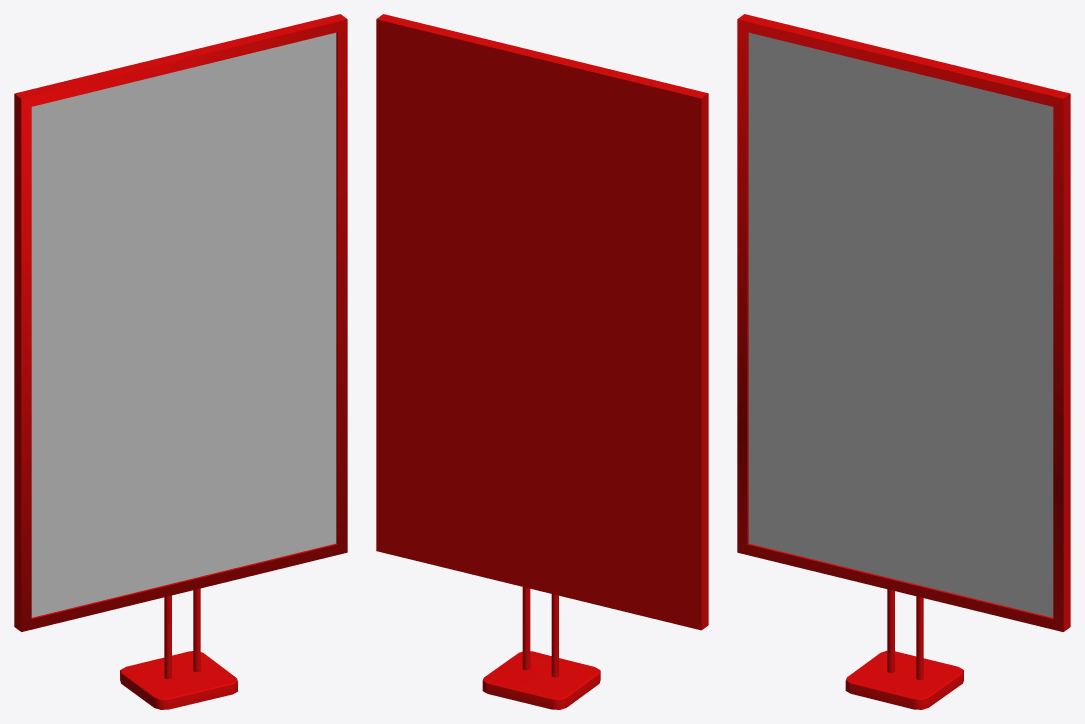
The model's file is Mirroe.fbx.
The picture shows the model from 3 angles, left to right: view 1: azimuth 30°, elevation 25°; view 2: azimuth 150°, elevation 25°; view 3: azimuth 330°, elevation 25°; orthographic projection.
Visible parts, largest first — view 1: Mirror1; view 2: Mirror1; view 3: Mirror1.
Boxes of the visible parts, x1,y1,x2,y2 form: Mirror1: (14,14,347,709); Mirror1: (376,14,708,709); Mirror1: (737,14,1070,709).
Bounding box in the file's own units: 97.26 × 179 × 22.95.
